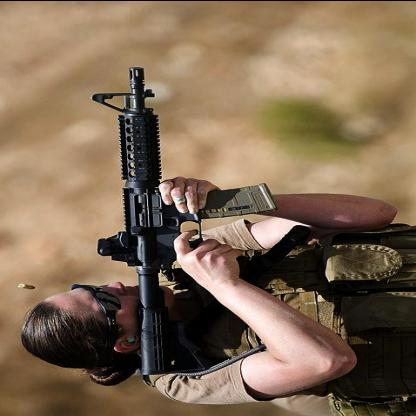rifle: (112, 56, 274, 376)
